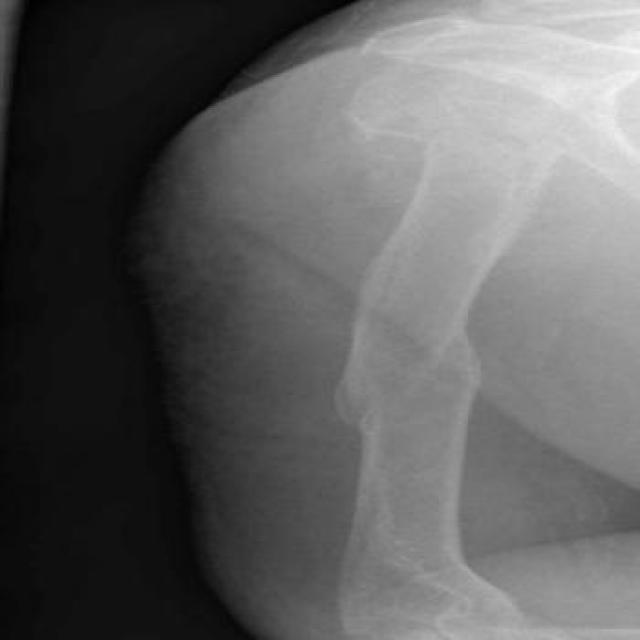Fracture: (309, 329, 500, 444)
